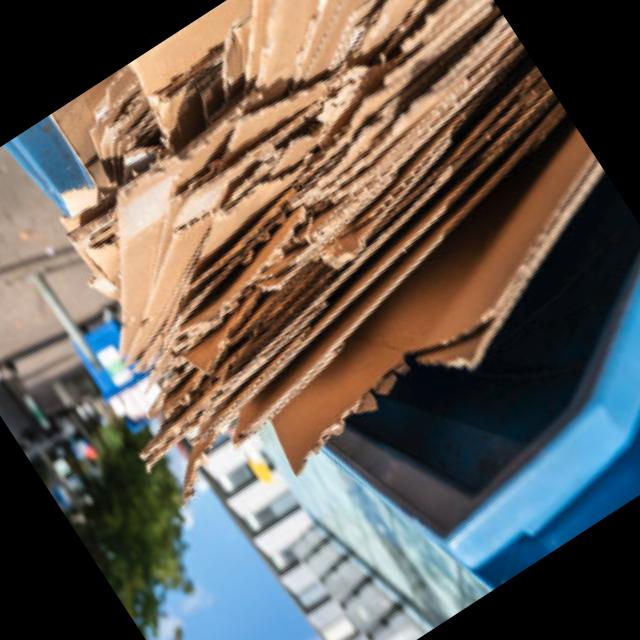Kardus: (0, 0, 640, 547), (203, 106, 640, 487)
